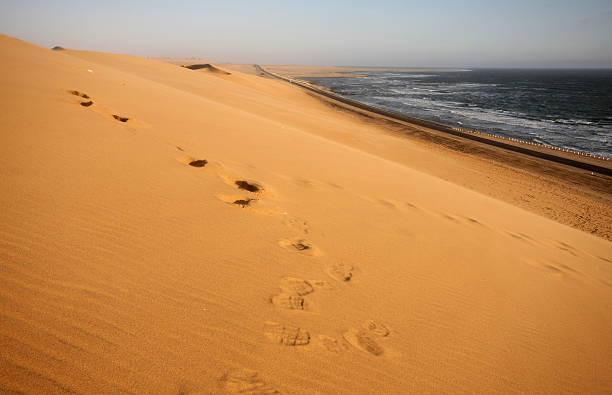human_footprint: (343, 320, 389, 355), (217, 174, 264, 207), (221, 369, 279, 394), (270, 277, 313, 309), (216, 194, 281, 215), (218, 172, 266, 195), (524, 259, 581, 278), (343, 329, 383, 355), (265, 322, 310, 345), (278, 237, 320, 255), (279, 277, 313, 295), (270, 292, 305, 309), (317, 334, 348, 352), (325, 262, 353, 281), (217, 195, 257, 207), (284, 216, 309, 234), (66, 90, 93, 106), (362, 320, 389, 336), (67, 90, 93, 106), (177, 156, 208, 167), (234, 180, 262, 192), (188, 159, 207, 167), (112, 114, 129, 122)
